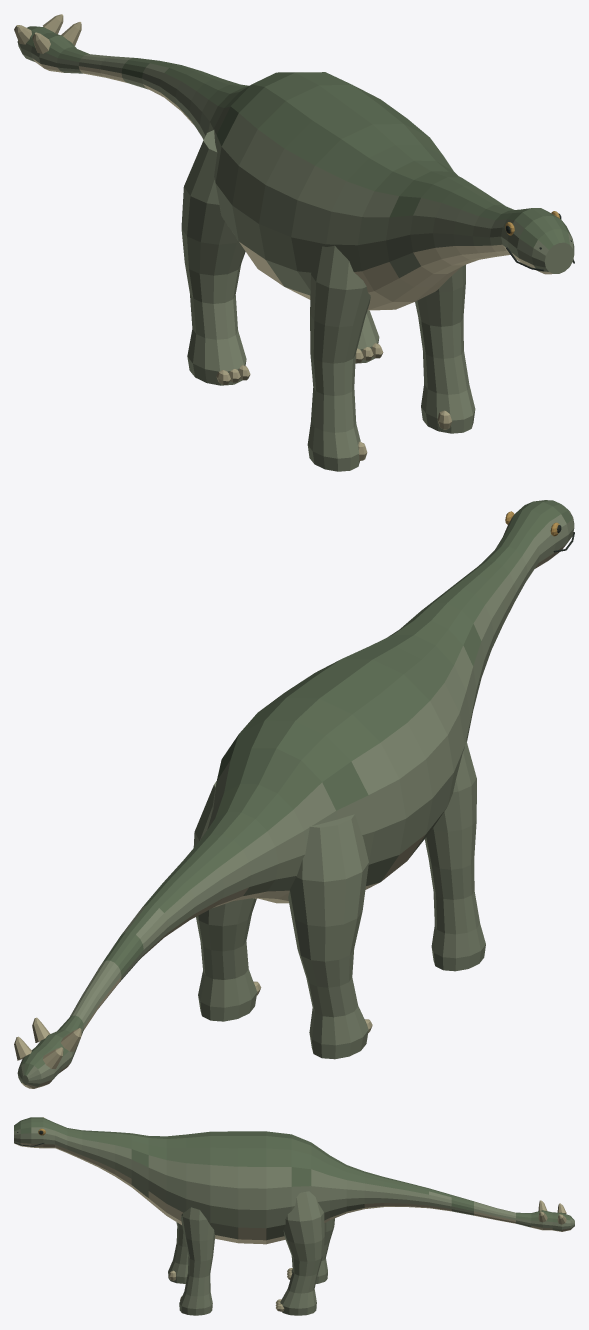
The picture shows the model from 3 angles, top to bottom: view 1: azimuth 30°, elevation 25°; view 2: azimuth 150°, elevation 25°; view 3: azimuth 270°, elevation 25°; orthographic projection. The views are drawn at different scales.
Parts seen in each view (by area): view 1: Continuous_head_neck_trunk_tail, Left_Fore_column, Left_Hind_column, Right_Fore_column, Small_pedal_unguals, Four_small_terminal_osteoderms_hypothetical, Right_Hind_column; view 2: Continuous_head_neck_trunk_tail, Left_Hind_column, Left_Fore_column, Right_Hind_column, Four_small_terminal_osteoderms_hypothetical; view 3: Continuous_head_neck_trunk_tail, Right_Hind_column, Right_Fore_column, Left_Fore_column, Left_Hind_column, Four_small_terminal_osteoderms_hypothetical.
Part boxes in pixels (x1=…): Continuous_head_neck_trunk_tail: x1=17, y1=26, x2=574, y2=310; Left_Fore_column: x1=307, y1=245, x2=370, y2=471; Left_Hind_column: x1=181, y1=130, x2=246, y2=385; Right_Fore_column: x1=415, y1=264, x2=475, y2=433; Small_pedal_unguals: x1=216, y1=343, x2=451, y2=460; Four_small_terminal_osteoderms_hypothetical: x1=14, y1=14, x2=81, y2=53; Right_Hind_column: x1=355, y1=310, x2=379, y2=363; Continuous_head_neck_trunk_tail: x1=17, y1=500, x2=574, y2=1088; Left_Hind_column: x1=288, y1=814, x2=368, y2=1059; Left_Fore_column: x1=424, y1=740, x2=485, y2=971; Right_Hind_column: x1=193, y1=781, x2=257, y2=1021; Four_small_terminal_osteoderms_hypothetical: x1=14, y1=1017, x2=81, y2=1068; Continuous_head_neck_trunk_tail: x1=14, y1=1117, x2=574, y2=1244; Right_Hind_column: x1=280, y1=1191, x2=324, y2=1315; Right_Fore_column: x1=179, y1=1207, x2=215, y2=1315; Left_Fore_column: x1=168, y1=1222, x2=188, y2=1283; Left_Hind_column: x1=291, y1=1218, x2=334, y2=1283; Four_small_terminal_osteoderms_hypothetical: x1=538, y1=1200, x2=566, y2=1224.
Size of the model in its own units: 1.88 by 3.46 by 10.
